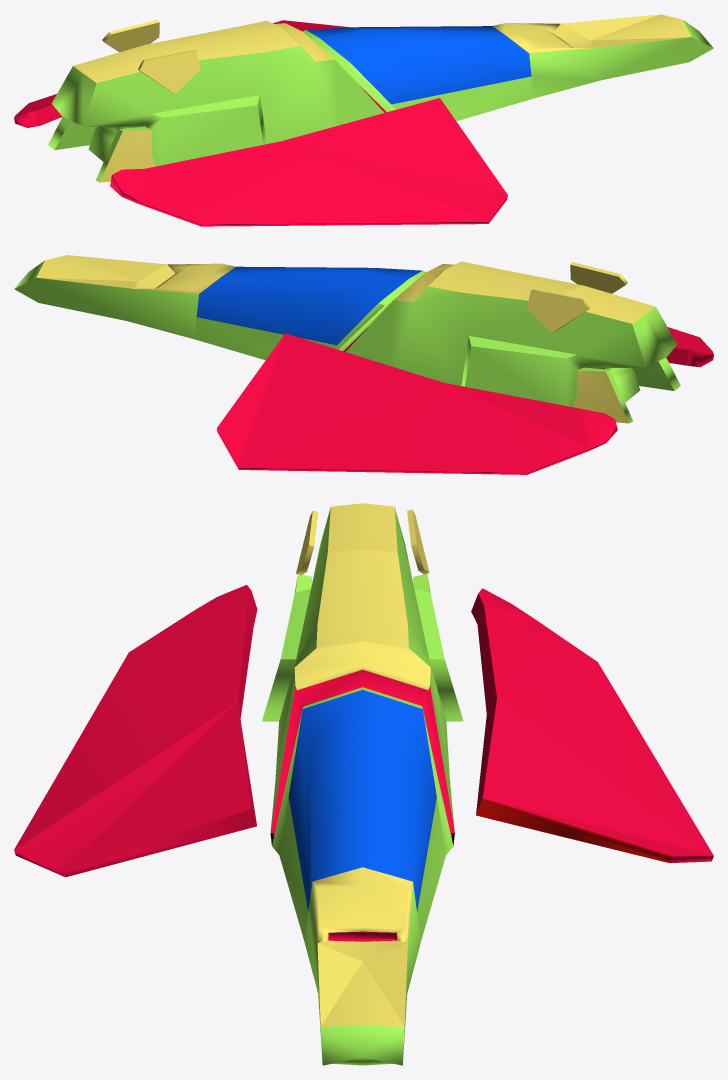
File: Ship2_UV&Color.fbx
3 renders of one model, top to bottom at view 1: azimuth 30°, elevation 25°; view 2: azimuth 150°, elevation 25°; view 3: azimuth 270°, elevation 25°, orthographic. The views are drawn at different scales.
Visible parts, largest first — view 1: Cube, Cube.001, Cube.002; view 2: Cube, Cube.002, Cube.001; view 3: Cube, Cube.001, Cube.002.
Part boxes in pixels (x1,y1,x2,y2): Cube: (48, 14, 713, 182); Cube.001: (110, 98, 507, 226); Cube.002: (14, 20, 349, 127); Cube: (14, 255, 680, 423); Cube.002: (216, 333, 617, 474); Cube.001: (666, 327, 713, 367); Cube: (262, 503, 463, 1065); Cube.001: (14, 585, 257, 877); Cube.002: (471, 588, 713, 862).
Bounding box in the file's own units: 1772 × 389 × 1245.
